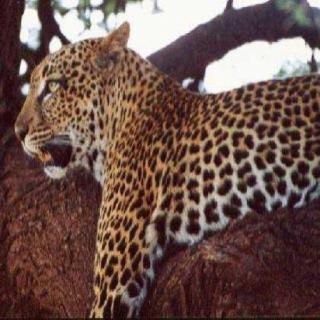Leopard: (17, 38, 320, 320)
